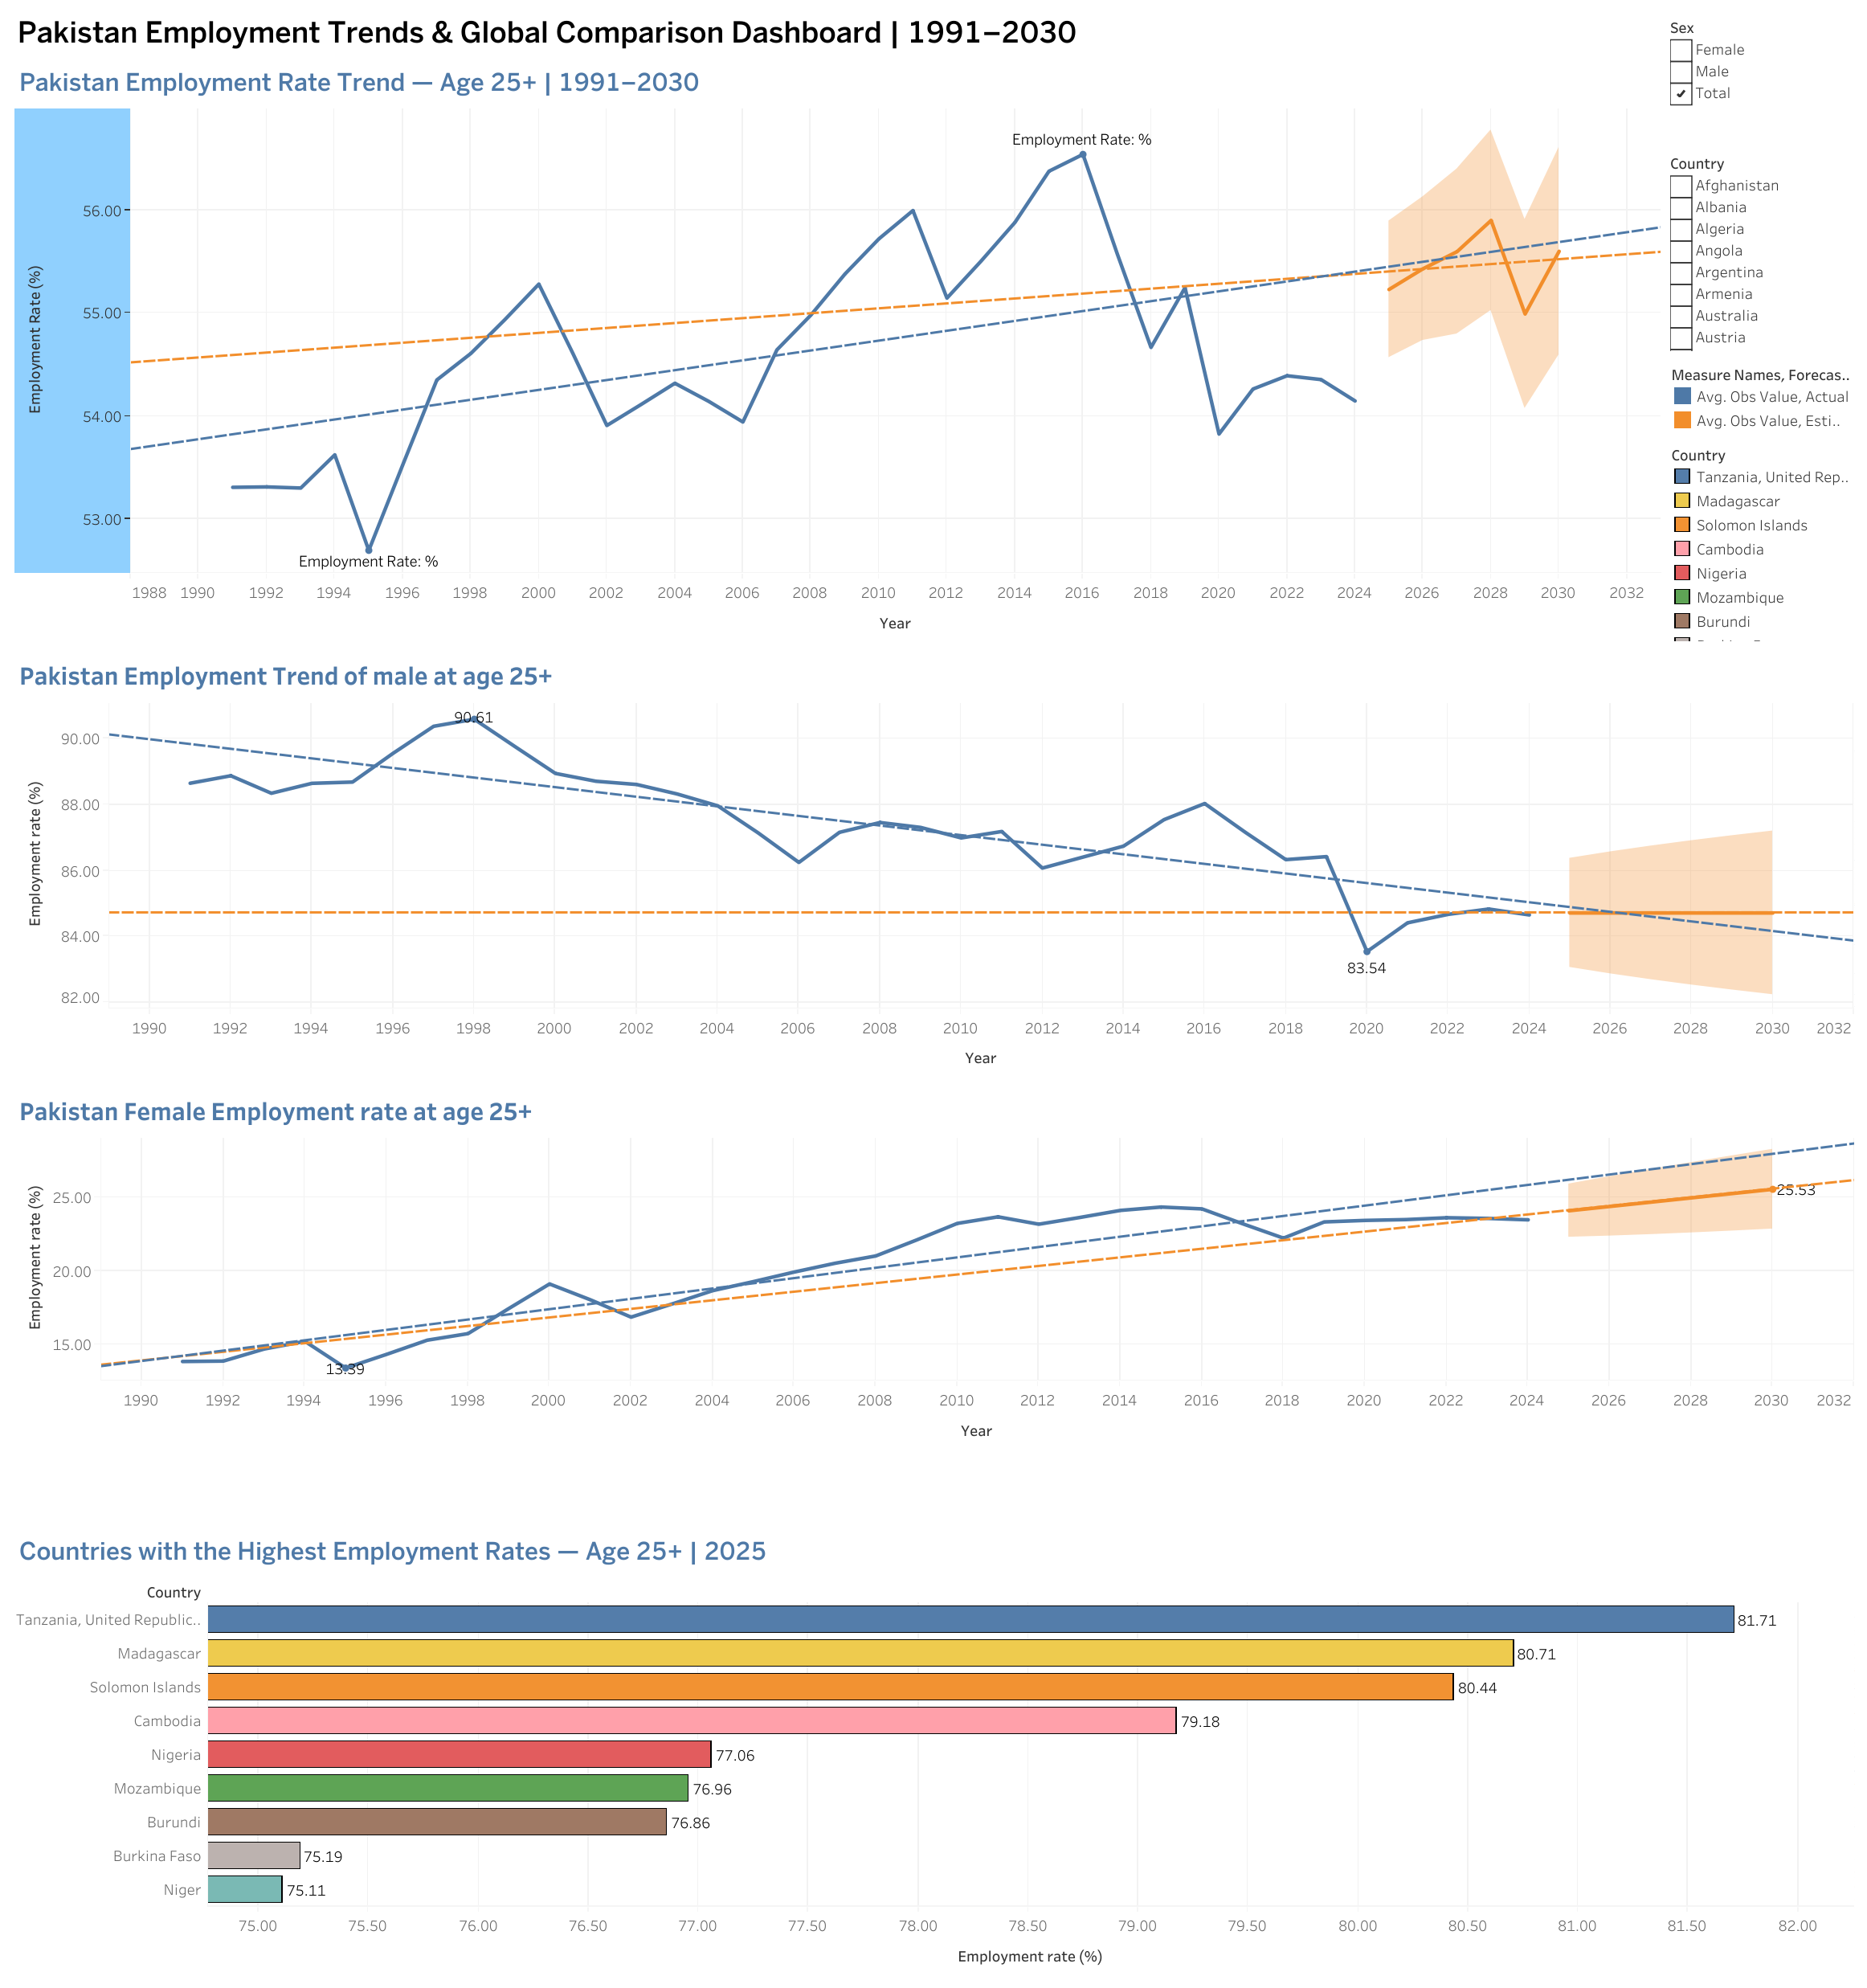

The page's visual inventory and layout, read from the dashboard file:
{"tool":"tableau","page":{"name":"Dashboard 1","canvas":[1550,1650],"ordinal":0},"visuals":[{"type":"title","box":[8,8,1374,52]},{"type":"filter","title":"Pakistan Employment Rate Trend — Age 25+ | 1991–2025","param":"[federated.09xvn830lorq0217nw167150i6io].[none:sex:nk]","box":[1382,8,160,148]},{"type":"worksheet","title":"Pakistan Employment Rate Trend — Age 25+ | 1991–2025","mark":"Line","rows":["obs_value"],"cols":["year"],"box":[8,60,1374,476]},{"type":"filter","title":"Pakistan Employment Rate Trend — Age 25+ | 1991–2025","param":"[federated.09xvn830lorq0217nw167150i6io].[none:country:nk]","box":[1382,156,160,148]},{"type":"legend","title":"Pakistan Employment Rate Trend — Age 25+ | 1991–2025","param":"[federated.09xvn830lorq0217nw167150i6io].[:Measure Names]\n[federated.09xvn830lor","box":[1382,304,160,84]},{"type":"legend","title":"Top Countries by Employment","param":"[federated.09xvn830lorq0217nw167150i6io].[none:country:nk]","box":[1382,388,160,148]},{"type":"worksheet","title":"Pakistan male employment trend","mark":"Automatic","rows":["obs_value"],"cols":["year"],"box":[8,536,1534,361]},{"type":"worksheet","title":"Pakistan female employment trend","mark":"Automatic","rows":["obs_value"],"cols":["year"],"box":[8,897,1534,368]},{"type":"worksheet","title":"Top Countries by Employment","mark":"Automatic","rows":["country"],"cols":["obs_value"],"box":[8,1265,1534,377]}]}

Visuals, with their boxes in screenshot pixels (x1, y1, x2, y2), scaled from the page's 1550x1650 canvas onto the 1867x1988 screenshot:
title: bbox(10, 10, 1665, 72)
"Pakistan Employment Rate Trend — Age 25+ | 1991–2025" filter: bbox(1665, 10, 1857, 188)
"Pakistan Employment Rate Trend — Age 25+ | 1991–2025" worksheet (Line marks): bbox(10, 72, 1665, 646)
"Pakistan Employment Rate Trend — Age 25+ | 1991–2025" filter: bbox(1665, 188, 1857, 366)
"Pakistan Employment Rate Trend — Age 25+ | 1991–2025" legend: bbox(1665, 366, 1857, 468)
"Top Countries by Employment" legend: bbox(1665, 468, 1857, 646)
"Pakistan male employment trend" worksheet: bbox(10, 646, 1857, 1081)
"Pakistan female employment trend" worksheet: bbox(10, 1081, 1857, 1524)
"Top Countries by Employment" worksheet: bbox(10, 1524, 1857, 1978)
